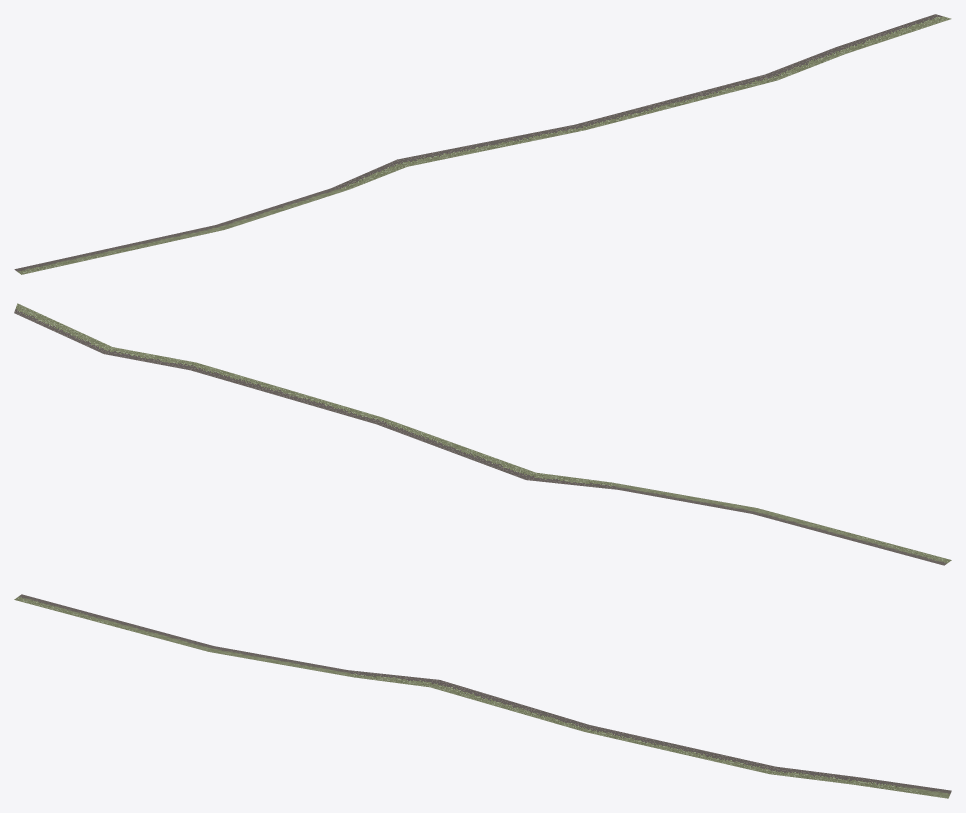
The model's file is kd_stage_135c43_4_148_bounded_piece_2.glb.
3 renders of one model, top to bottom at view 1: azimuth 30°, elevation 25°; view 2: azimuth 150°, elevation 25°; view 3: azimuth 330°, elevation 25°, orthographic.
Visible parts, largest first — view 1: kd_stage_135c43_4_148_bounded_piece_2; view 2: kd_stage_135c43_4_148_bounded_piece_2; view 3: kd_stage_135c43_4_148_bounded_piece_2.
Boxes of the visible parts, x1,y1,x2,y2 form: kd_stage_135c43_4_148_bounded_piece_2: (14,14,951,274); kd_stage_135c43_4_148_bounded_piece_2: (14,303,951,565); kd_stage_135c43_4_148_bounded_piece_2: (14,594,951,798).
Size of the model in its own units: 3.97 by 0.1176 by 0.2145.
Materials: 1 (1 with a texture image).
